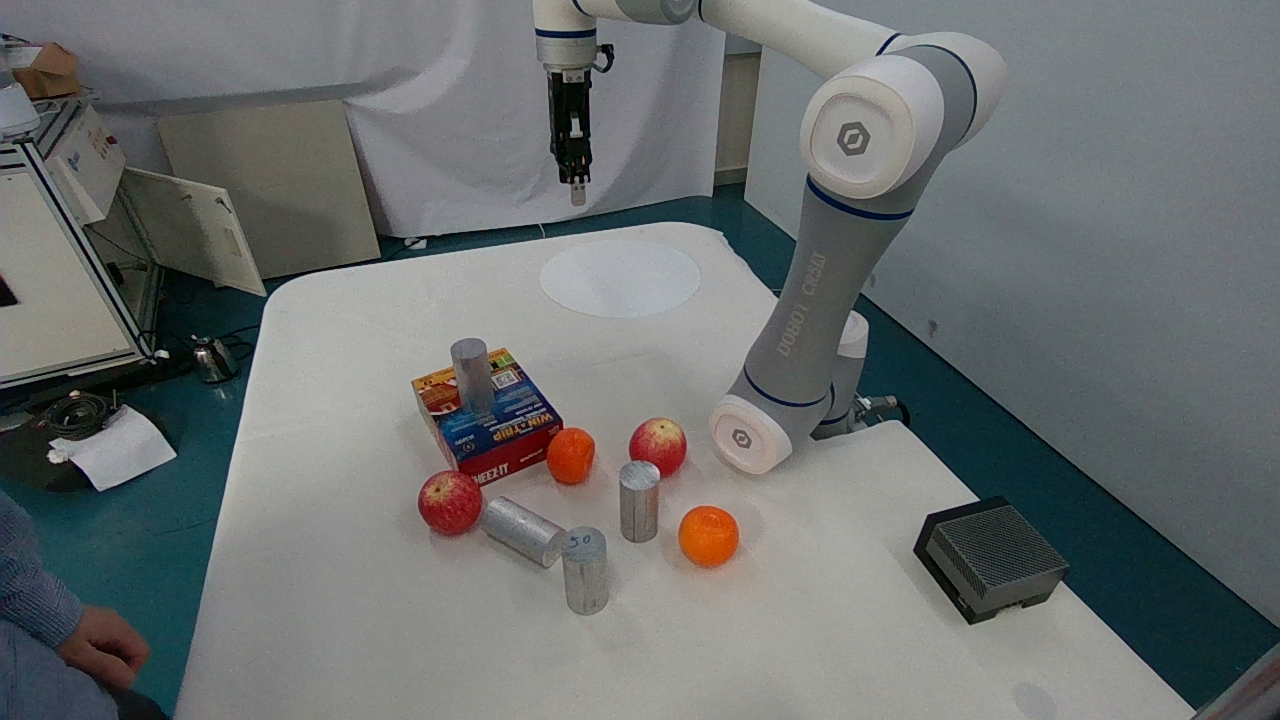apple: (414, 458, 487, 544), (614, 410, 702, 480)
metal rod: (470, 481, 570, 573), (605, 445, 671, 552), (553, 520, 620, 616), (440, 331, 504, 424)
orange: (670, 496, 744, 578), (542, 417, 603, 494)
